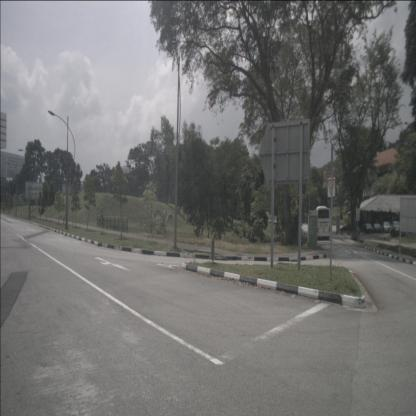vehicle-bus-rigid: (313, 206, 331, 240)
vehicle-car: (362, 223, 374, 234), (340, 223, 354, 232), (381, 221, 391, 233), (390, 221, 400, 232), (372, 223, 381, 233)
